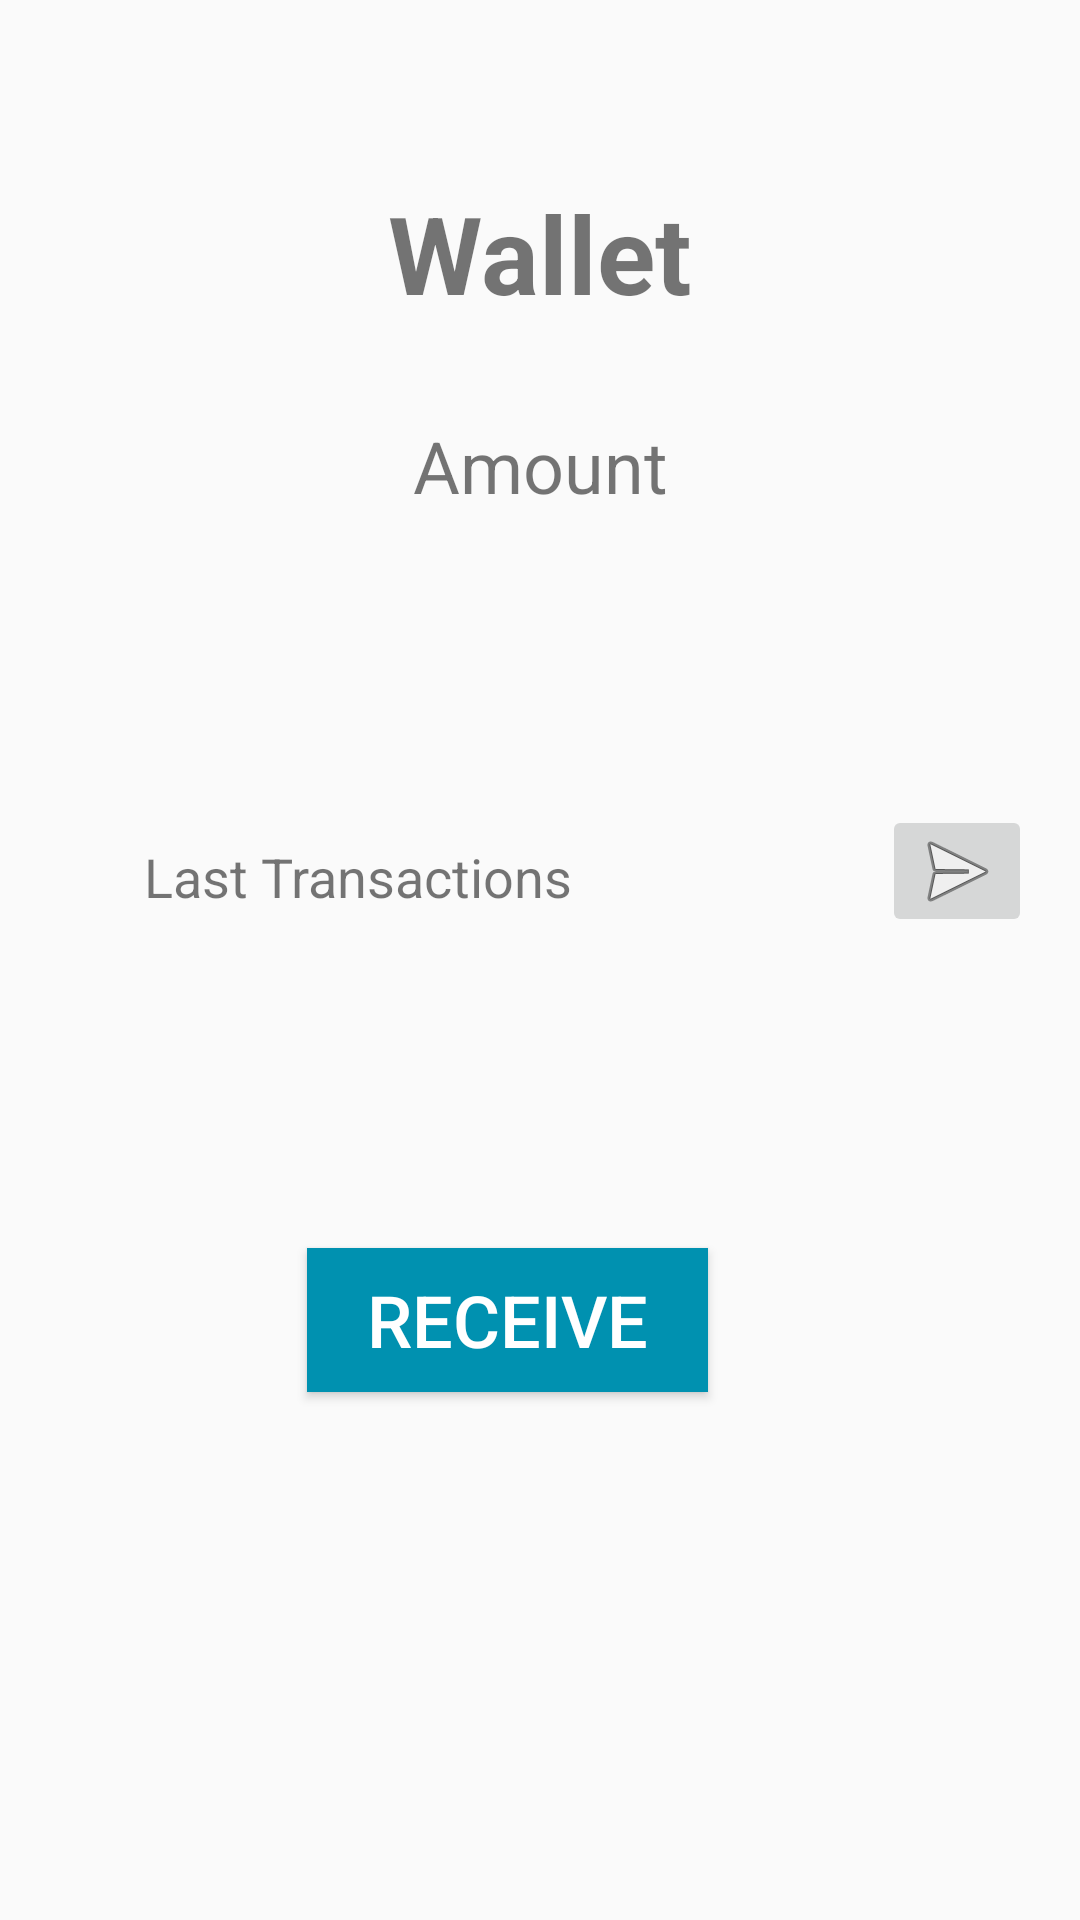

Screen size 1080px x 1920px. Icon name, then its box in pixels as Rect(x1, y1, x2, y2):
send: Rect(894, 823, 1020, 919)
